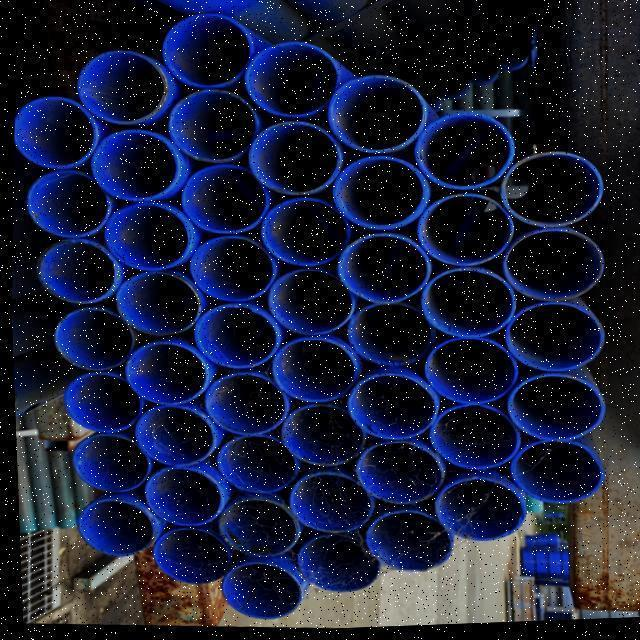pipe: (504, 227, 606, 310), (500, 152, 604, 233), (415, 114, 517, 194), (327, 77, 427, 158), (246, 36, 341, 120), (501, 306, 602, 381), (509, 436, 603, 515), (247, 123, 340, 201), (503, 377, 605, 447), (418, 269, 518, 340), (162, 16, 255, 91), (181, 165, 268, 245), (336, 157, 428, 232), (418, 196, 515, 267), (419, 338, 515, 409), (344, 372, 435, 446), (171, 93, 261, 166), (339, 234, 432, 304), (91, 132, 181, 204), (275, 400, 368, 469), (429, 480, 523, 547), (14, 96, 100, 169), (262, 199, 349, 271), (78, 50, 165, 122), (192, 304, 278, 375), (262, 274, 350, 343), (274, 337, 358, 408), (348, 304, 438, 370), (186, 238, 276, 304), (354, 445, 444, 510), (430, 408, 518, 474), (105, 204, 189, 273), (361, 511, 451, 574), (29, 169, 110, 239), (113, 272, 198, 338), (122, 341, 209, 405), (33, 239, 114, 306), (131, 407, 216, 470), (53, 306, 132, 373), (213, 498, 297, 560), (289, 475, 374, 536), (205, 372, 287, 435), (141, 466, 223, 527), (61, 373, 143, 434), (66, 430, 146, 492), (214, 563, 301, 620), (212, 437, 294, 497), (293, 537, 376, 595), (146, 528, 229, 584), (73, 498, 151, 557)
